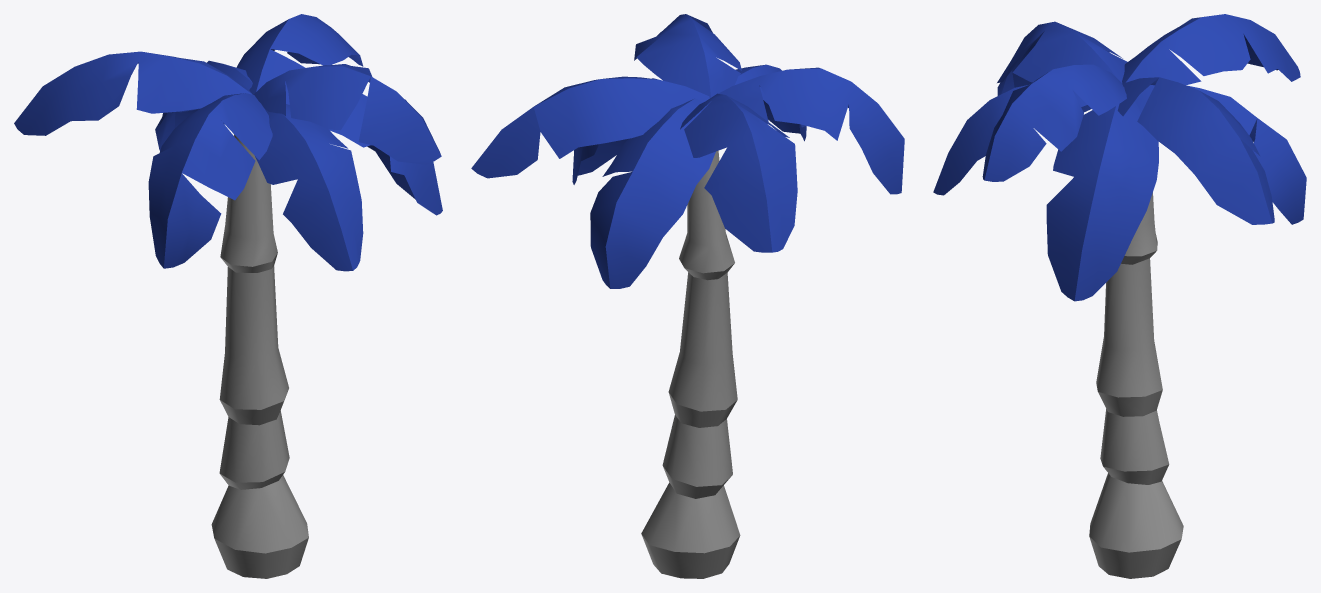
Rendered from Palm_02_mm.fbx.
The picture shows the model from 3 angles, left to right: view 1: azimuth 30°, elevation 25°; view 2: azimuth 150°, elevation 25°; view 3: azimuth 270°, elevation 25°; orthographic projection. The views are drawn at different scales.
Visible parts, largest first — view 1: Palm_02; view 2: Palm_02; view 3: Palm_02.
Boxes of the visible parts, left/top/right/bottom form: Palm_02: left=14, top=14, right=442, bottom=578; Palm_02: left=471, top=14, right=904, bottom=578; Palm_02: left=933, top=14, right=1306, bottom=578.
Bounding box in the file's own units: 263 × 402 × 265.
